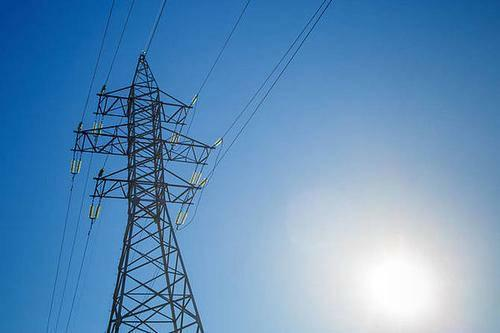power_tower: (67, 45, 210, 330)
